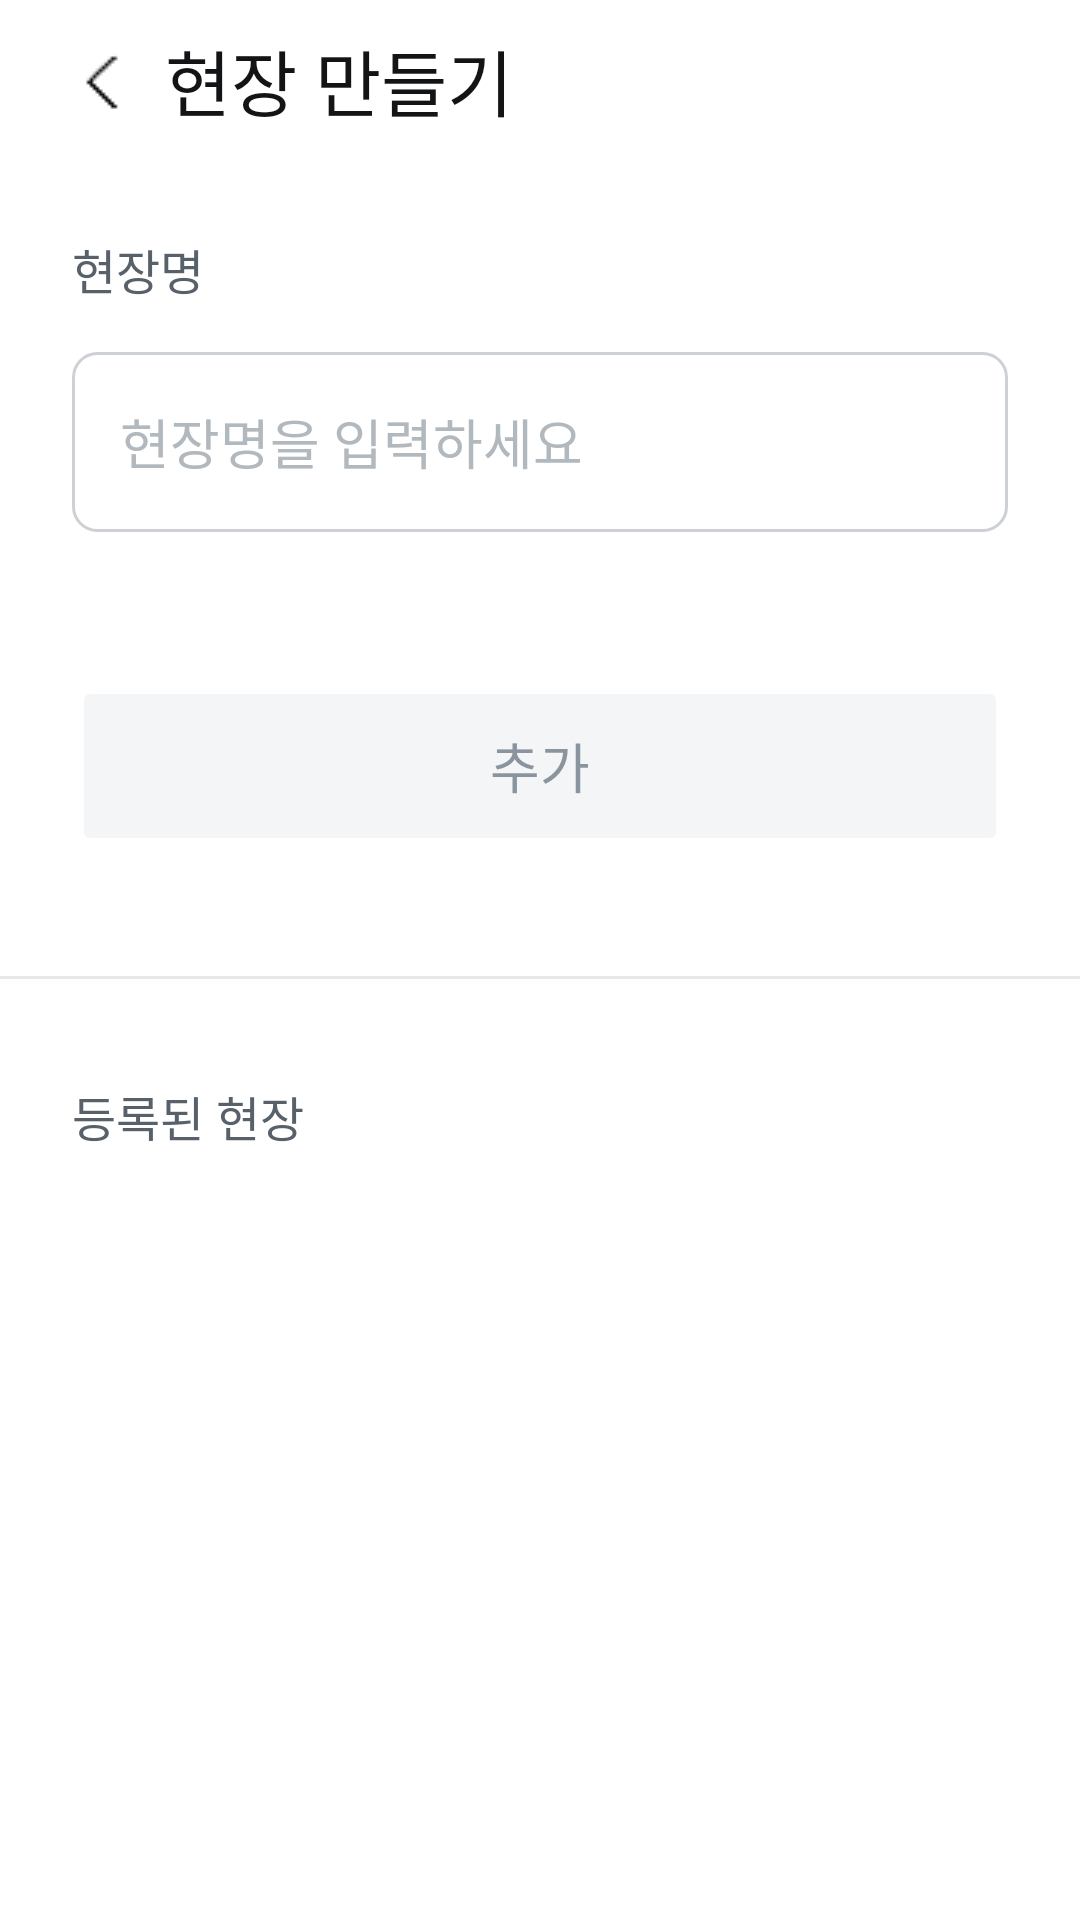

Icon click points for this 1080x1920 phone screenshot, format (x=x, y=y):
back: (x=102, y=82)
